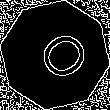O_SW: (22, 23, 88, 87)
